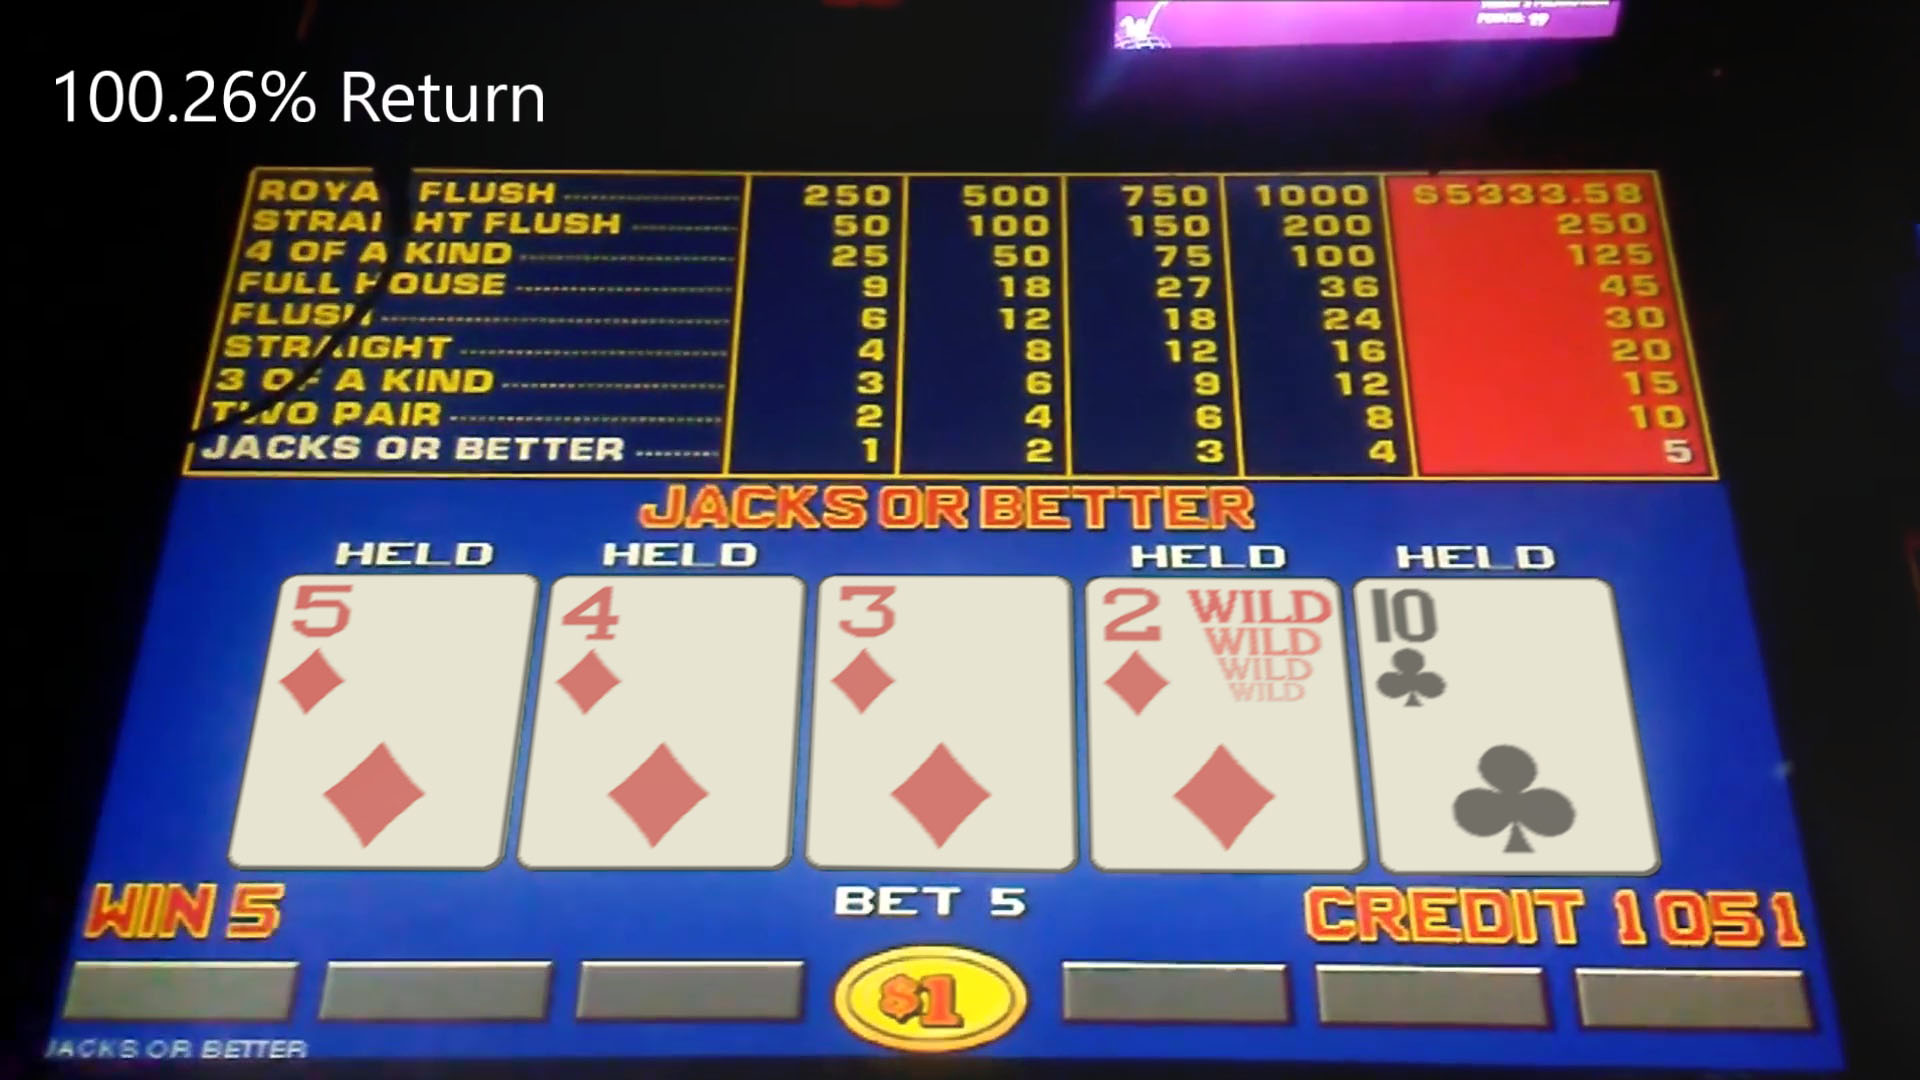CT: (1373, 582, 1625, 872)
D2W: (1091, 580, 1348, 872)
D3: (811, 575, 1076, 869)
D4: (546, 575, 795, 866)
D5: (266, 576, 506, 865)
